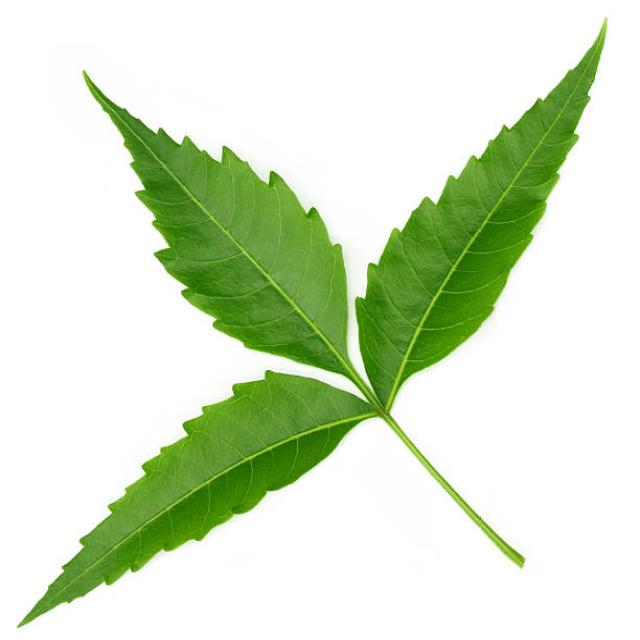Neem-Tree: (22, 27, 605, 623)
